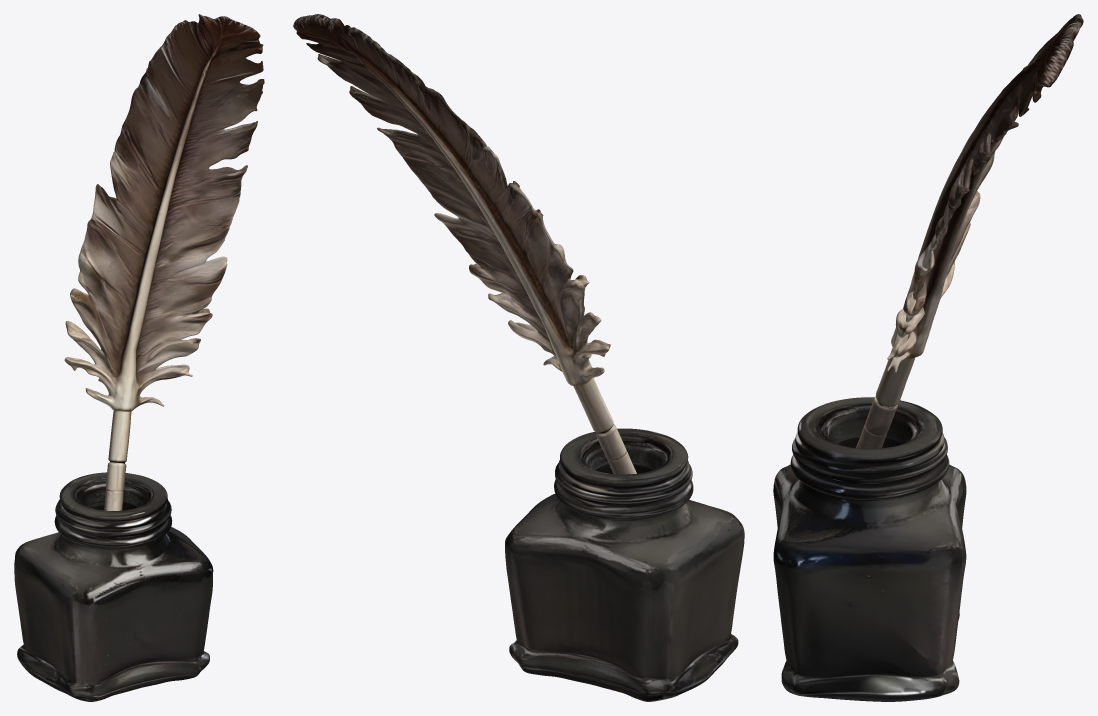
Rendered from antique+ink+bottle+3d+model.glb.
3 views of the same model, side by side, from view 1: azimuth 30°, elevation 25°; view 2: azimuth 150°, elevation 25°; view 3: azimuth 270°, elevation 25° (orthographic). The views are drawn at different scales.
Visible parts, largest first — view 1: tripo_node_d28e8aaa-76ef-4858-a47f-a1e297a7987b; view 2: tripo_node_d28e8aaa-76ef-4858-a47f-a1e297a7987b; view 3: tripo_node_d28e8aaa-76ef-4858-a47f-a1e297a7987b.
Boxes of the visible parts, x1,y1,x2,y2 form: tripo_node_d28e8aaa-76ef-4858-a47f-a1e297a7987b: (14,14,264,701); tripo_node_d28e8aaa-76ef-4858-a47f-a1e297a7987b: (293,14,744,701); tripo_node_d28e8aaa-76ef-4858-a47f-a1e297a7987b: (773,14,1083,701).
Bounding box in the file's own units: 0.5435 × 1 × 0.3773.
Materials: 1 (1 with a texture image).
